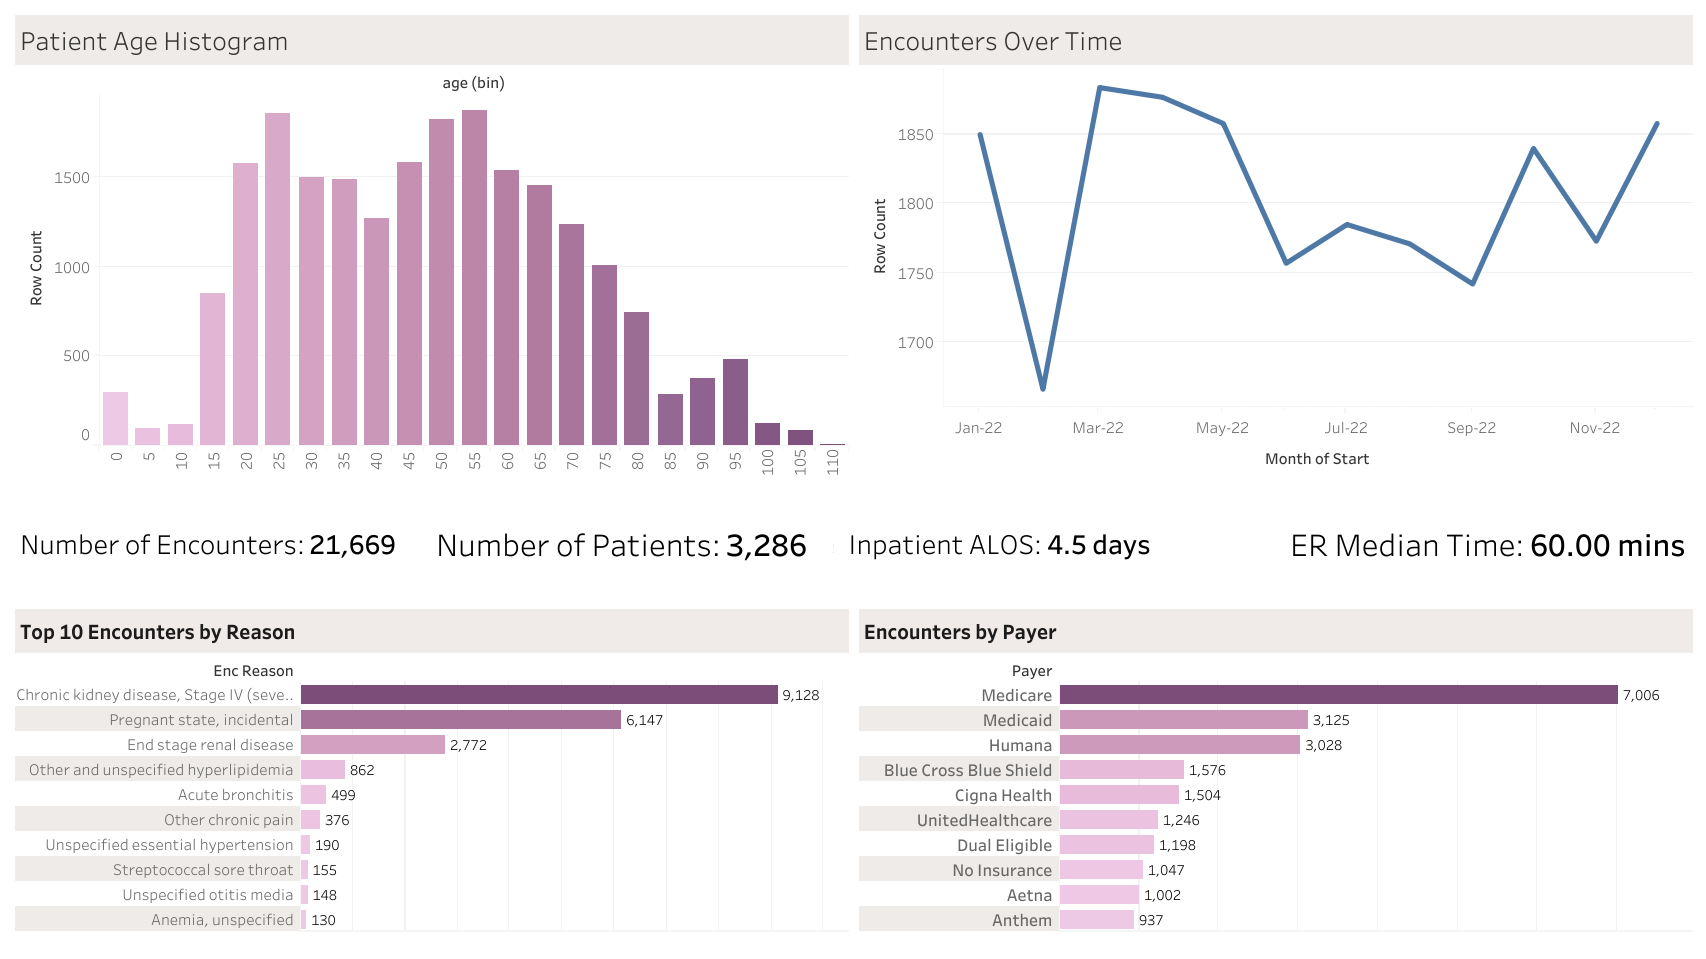

This screenshot's page, from the dashboard's own definition file:
{"tool":"tableau","page":{"name":"Dashboard 1","canvas":[1366,768],"ordinal":0},"visuals":[{"type":"worksheet","title":"Patient Age","mark":"Bar","rows":["Calculation_1574852535255568384"],"cols":["age (bin)"],"box":[8,8,675,377.8]},{"type":"worksheet","title":"Encounters Over Time","mark":"Automatic","rows":["Calculation_1574852535255568384"],"cols":["start"],"box":[683,8,675,377.8]},{"type":"worksheet","title":"Number of Encounters","mark":"Automatic","box":[8,385.8,333,97.2]},{"type":"worksheet","title":"Number of Patients","mark":"Automatic","box":[341,385.8,329,97.2]},{"type":"worksheet","title":"Inpatient ALOS","mark":"Automatic","box":[670,385.8,354,97.2]},{"type":"worksheet","title":"ER Median Time","mark":"Automatic","box":[1024,385.8,334,97.2]},{"type":"worksheet","title":"Top 10 Encounters by Reason","mark":"Automatic","rows":["enc_reason"],"cols":["Calculation_1574852535255568384"],"box":[8,483,675,277]},{"type":"worksheet","title":"Encounters by Payer","mark":"Automatic","rows":["payer"],"cols":["Calculation_1574852535255568384"],"box":[683,483,675,277]}]}

Visuals, with their boxes in screenshot pixels (x1, y1, x2, y2), scaled from the page's 1366x768 canvas onto the 1706x959 screenshot:
"Patient Age" worksheet (Bar marks): 10 10 853 482
"Encounters Over Time" worksheet: 853 10 1696 482
"Number of Encounters" worksheet: 10 482 426 603
"Number of Patients" worksheet: 426 482 837 603
"Inpatient ALOS" worksheet: 837 482 1279 603
"ER Median Time" worksheet: 1279 482 1696 603
"Top 10 Encounters by Reason" worksheet: 10 603 853 949
"Encounters by Payer" worksheet: 853 603 1696 949
